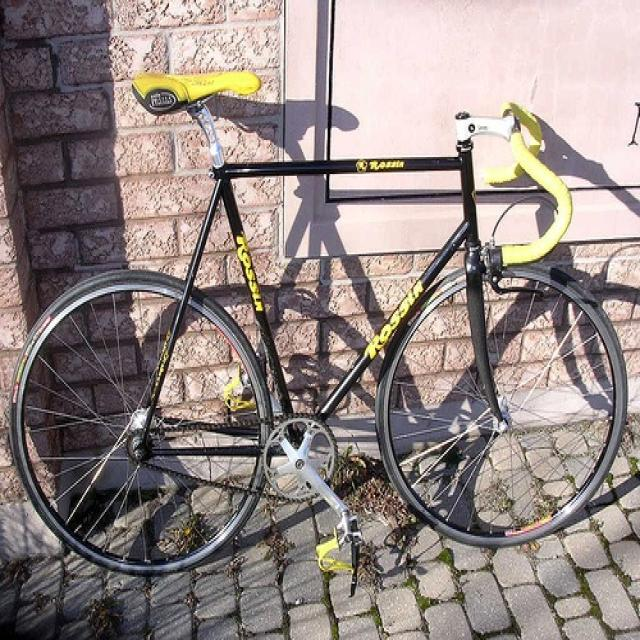bicycle: (9, 70, 628, 597)
